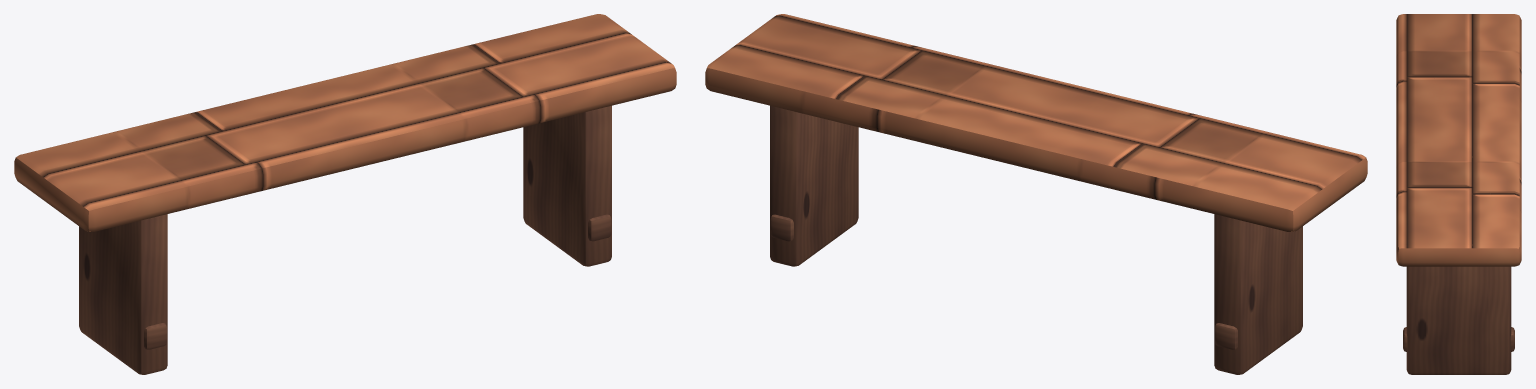
The model's file is bench.gltf.
3 renders of one model, left to right at view 1: azimuth 30°, elevation 25°; view 2: azimuth 150°, elevation 25°; view 3: azimuth 270°, elevation 25°, orthographic. The views are drawn at different scales.
Parts seen in each view (by area): view 1: bench_mesh; view 2: bench_mesh; view 3: bench_mesh.
Boxes of the visible parts, left/top/right/bottom form: bench_mesh: left=14, top=14, right=676, bottom=374; bench_mesh: left=705, top=14, right=1367, bottom=374; bench_mesh: left=1396, top=14, right=1521, bottom=374.
Size of what is drawn, in the model's own units: 1.6 by 0.485 by 0.36.
2 materials, 2 textured.
